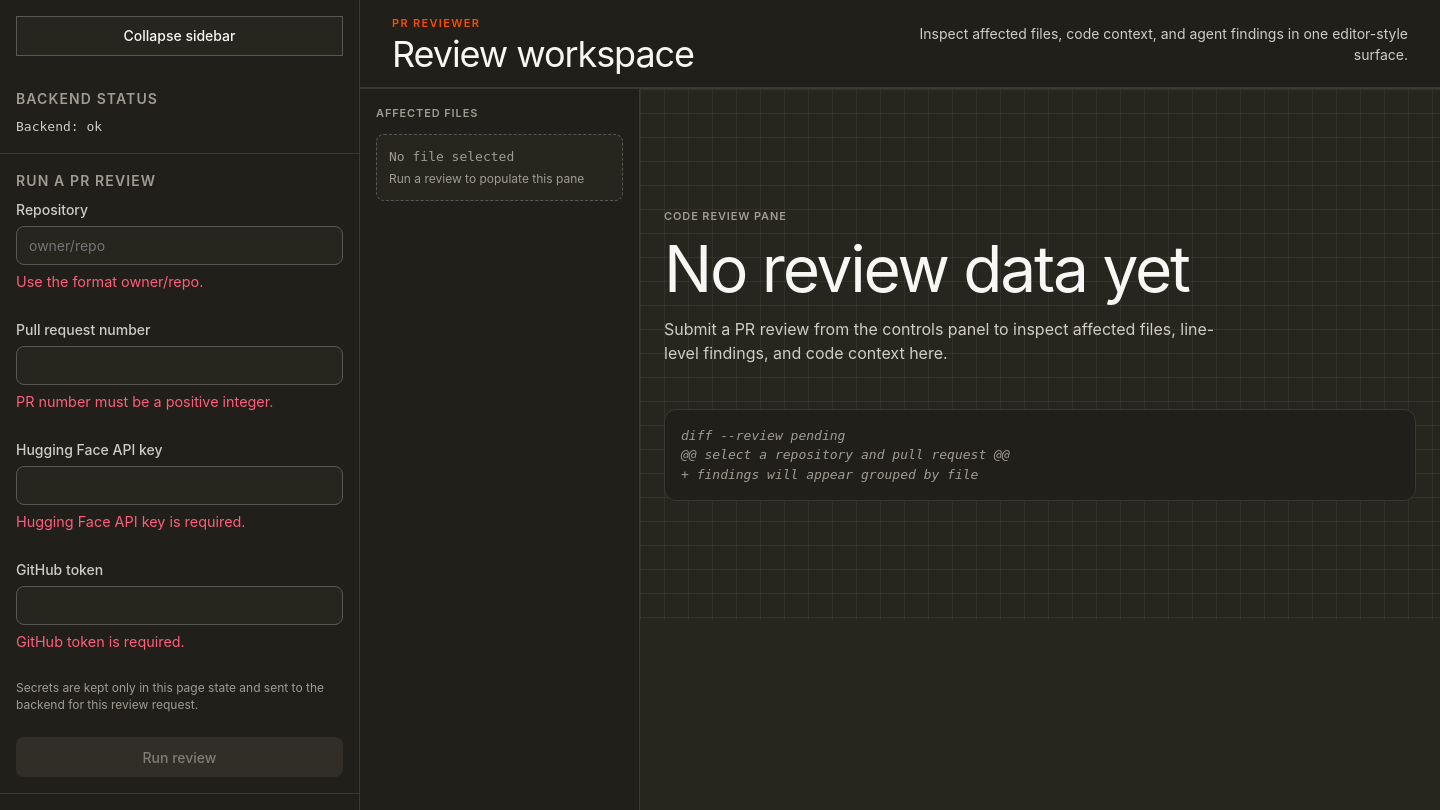
Scenario: App smoke UI › renders review results after successful form submission
Type "gentleman-programming/pr-reviewer" into the field labelled "Repository" at (180, 245), box [16,226,343,264]
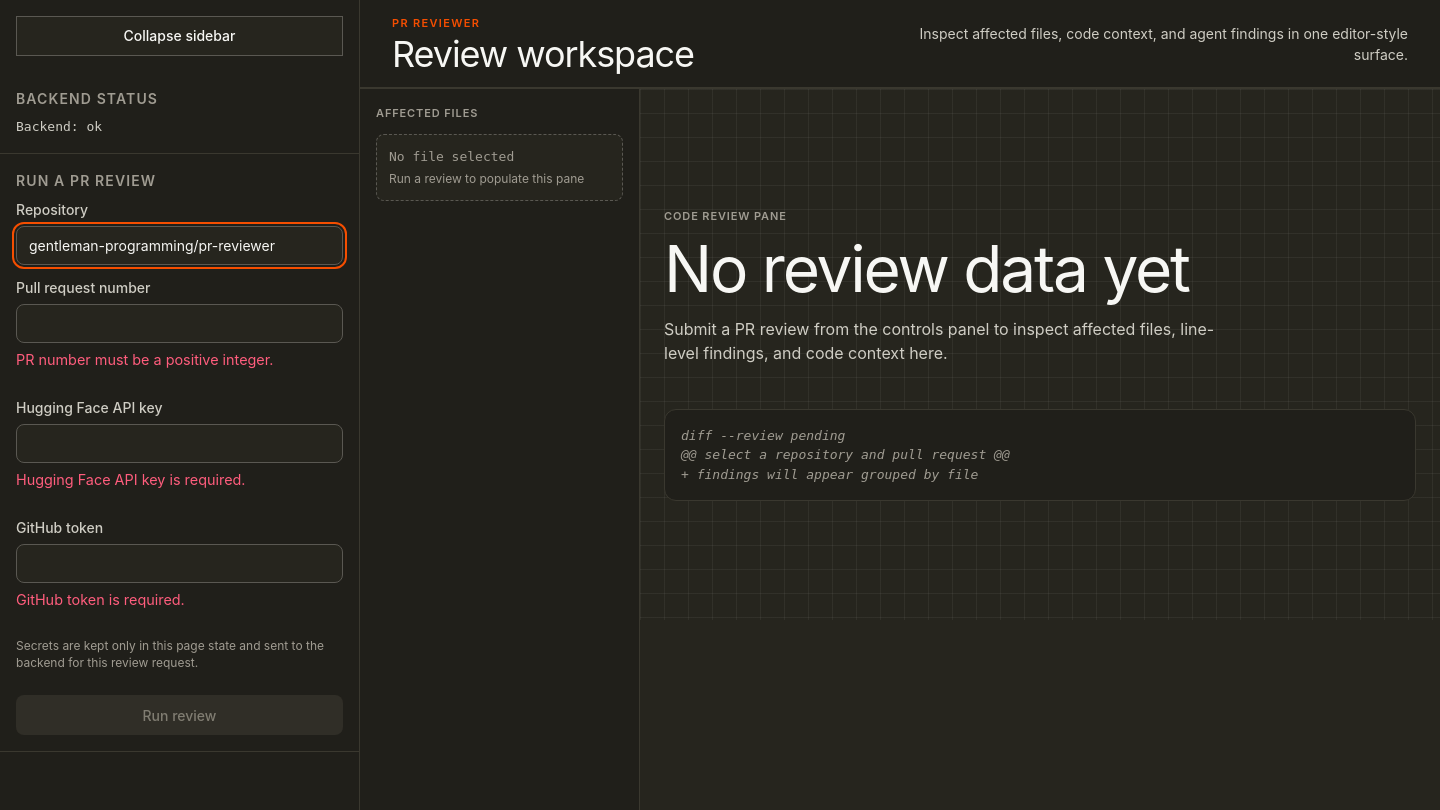
Type "42" into the field labelled "Pull request number" at (180, 323), box [16,304,343,342]
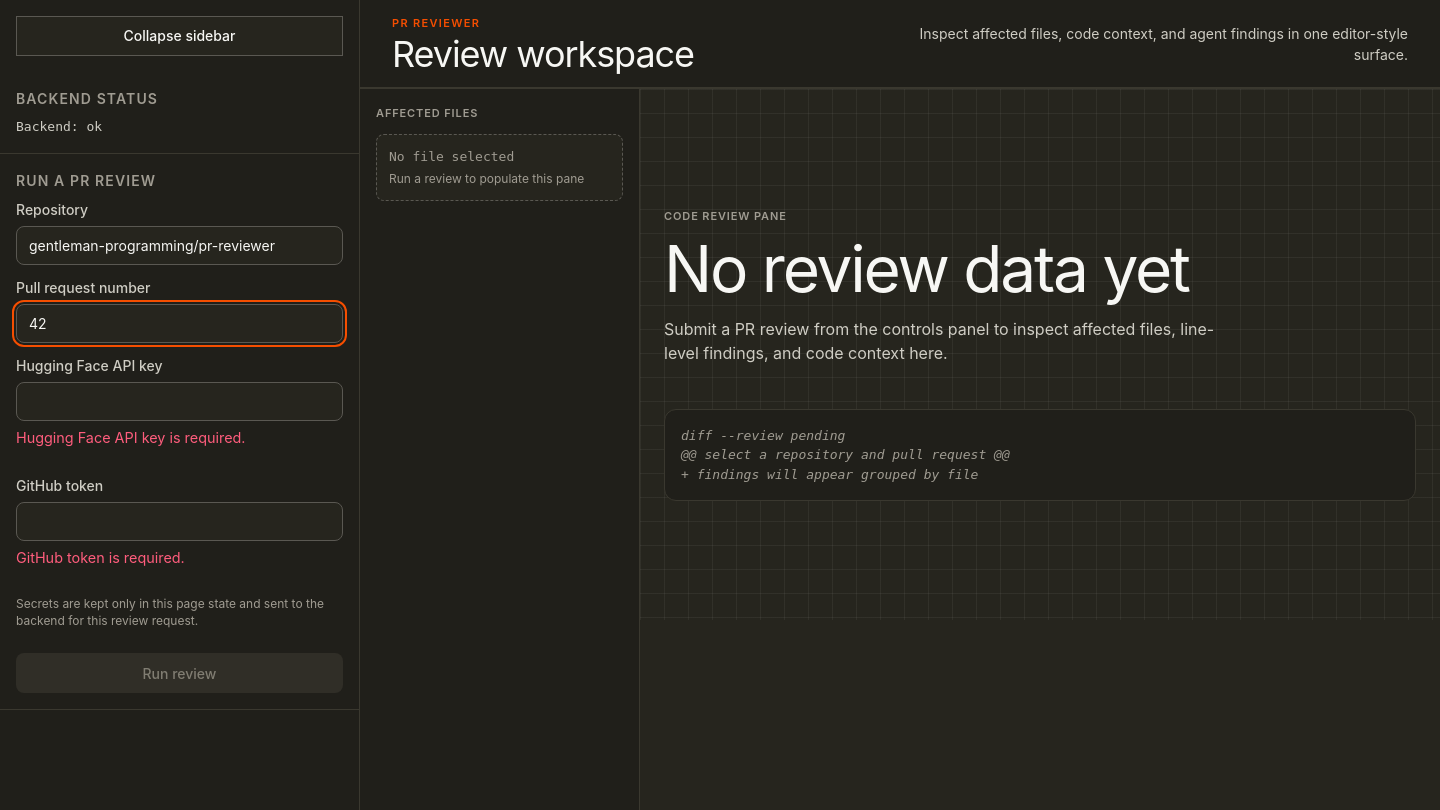
Type "hf-secret" into the password field labelled "Hugging Face API key" at (180, 401), box [16,382,343,420]
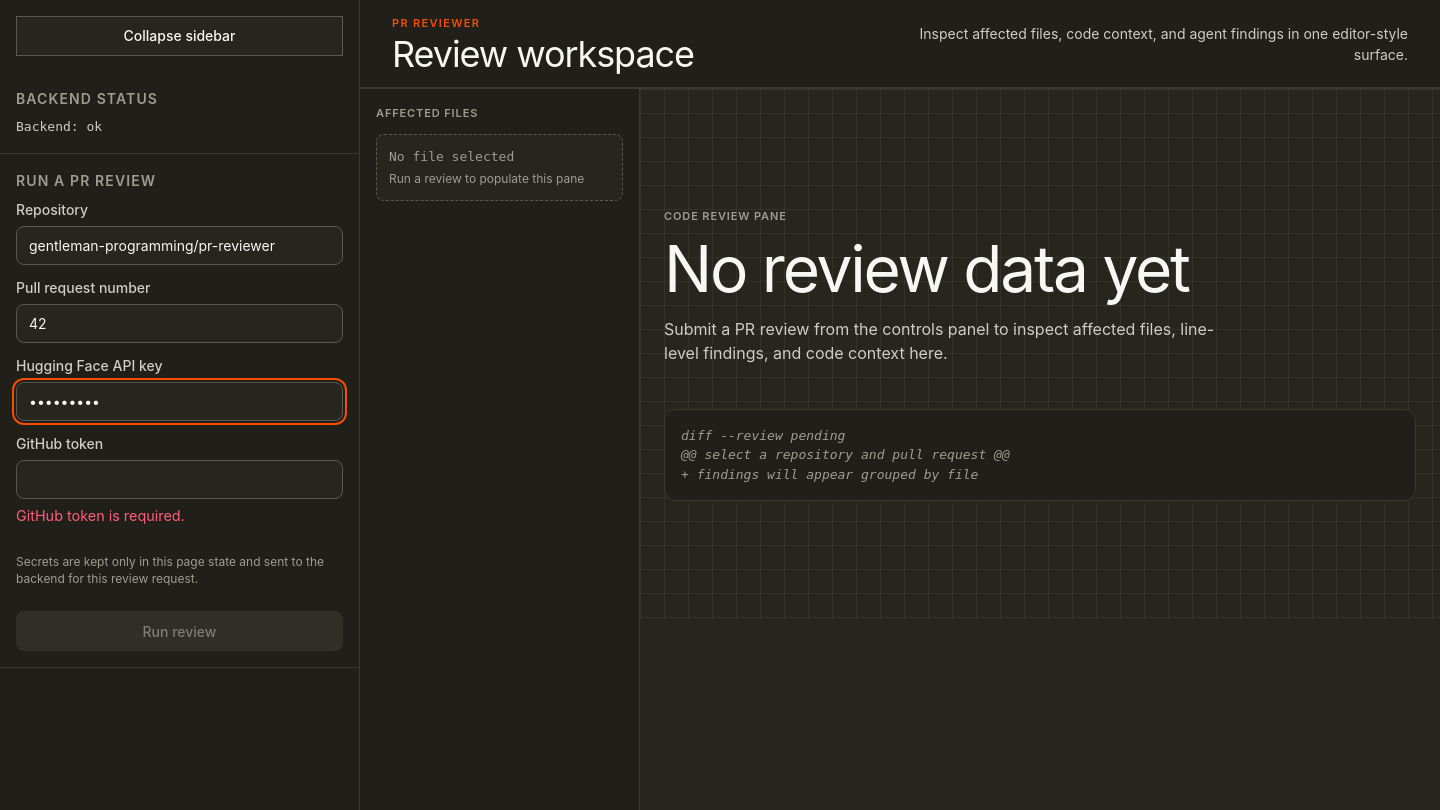
Type "github-secret" into the password field labelled "GitHub token" at (180, 479), box [16,460,343,498]
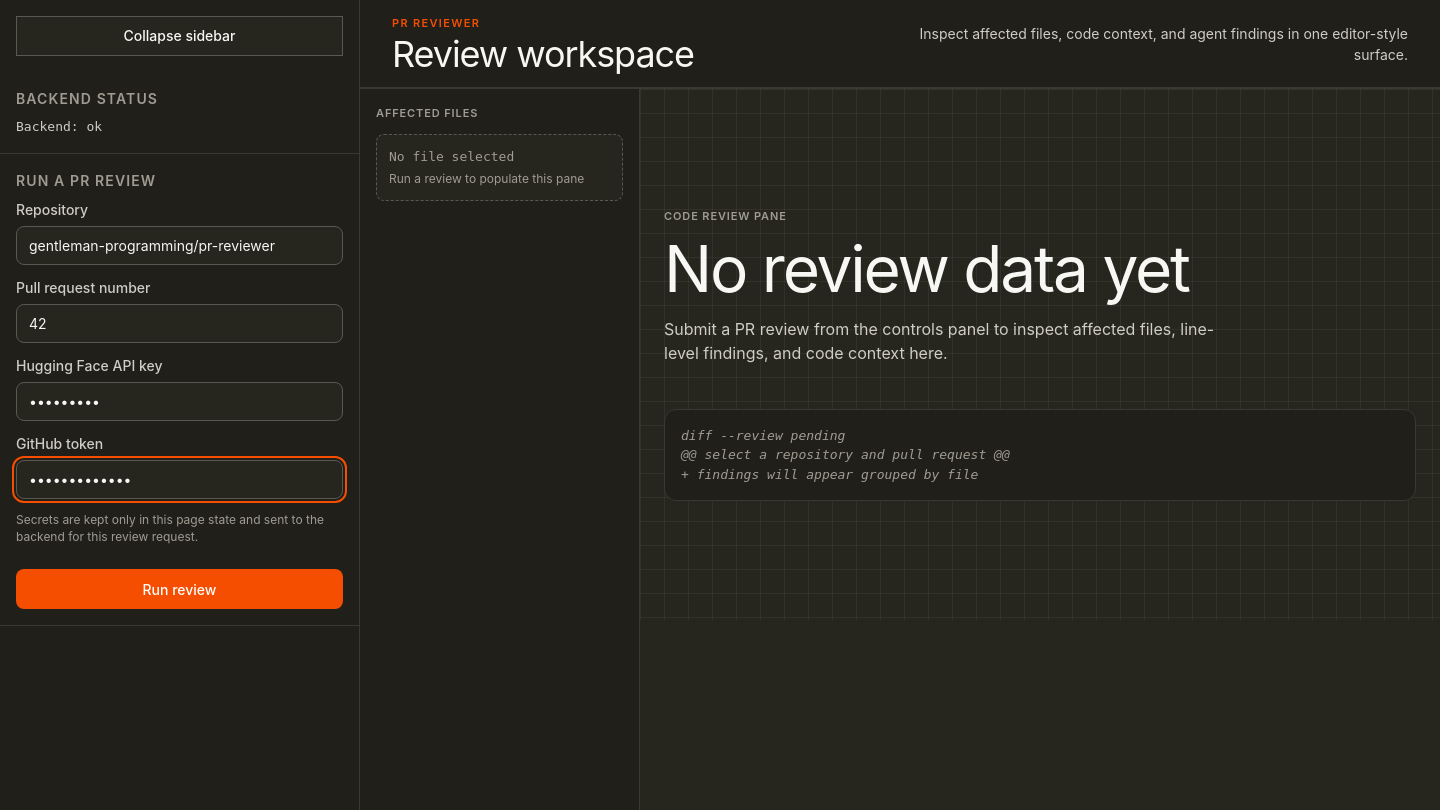
Click the button "Run review" at (180, 589), box [16,569,343,609]
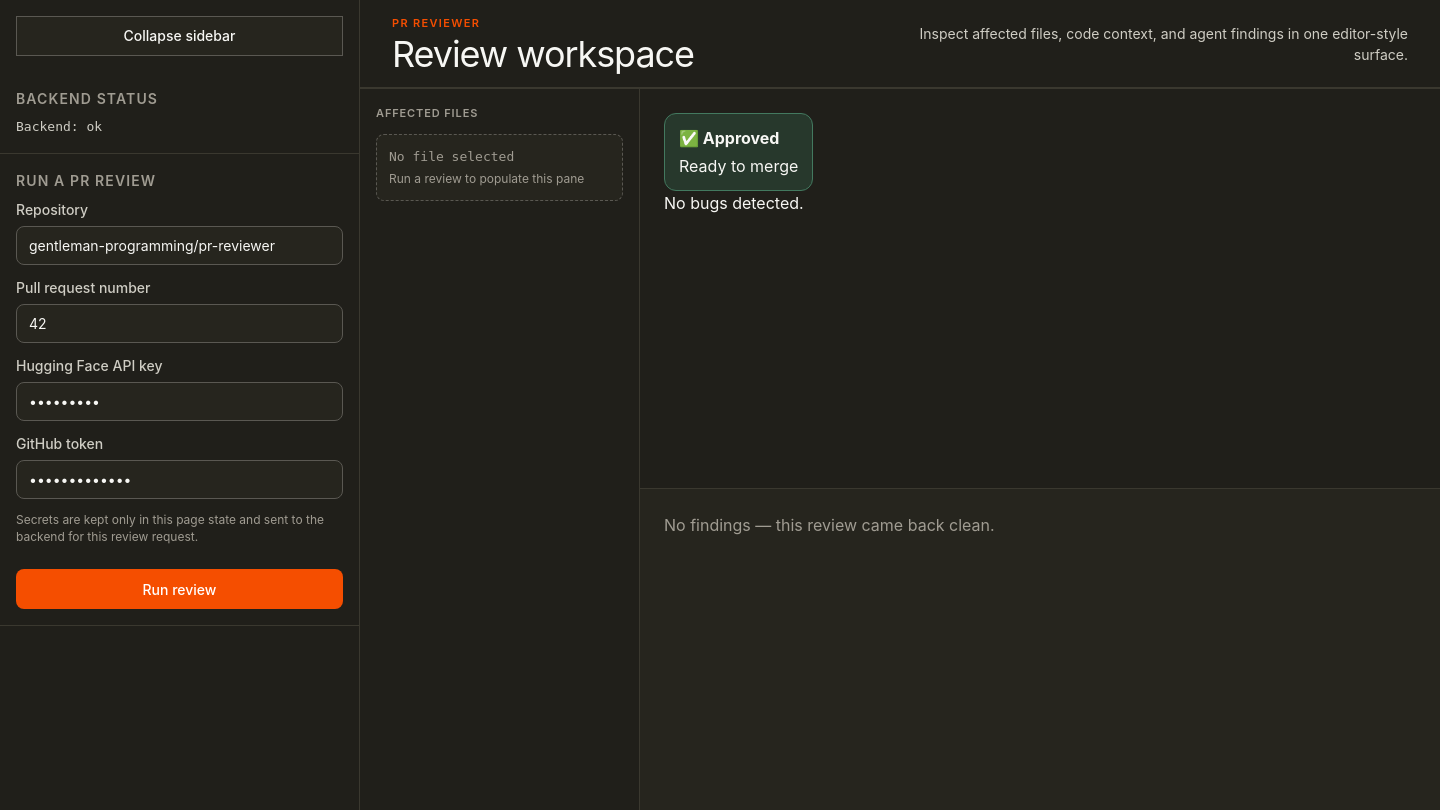
Check: the text "✅ Approved" is shown, box [679,128,780,148]
Check: the text "Ready to merge" is shown, box [679,154,798,178]
Check: the text "No bugs detected." is shown, box [664,193,804,213]
